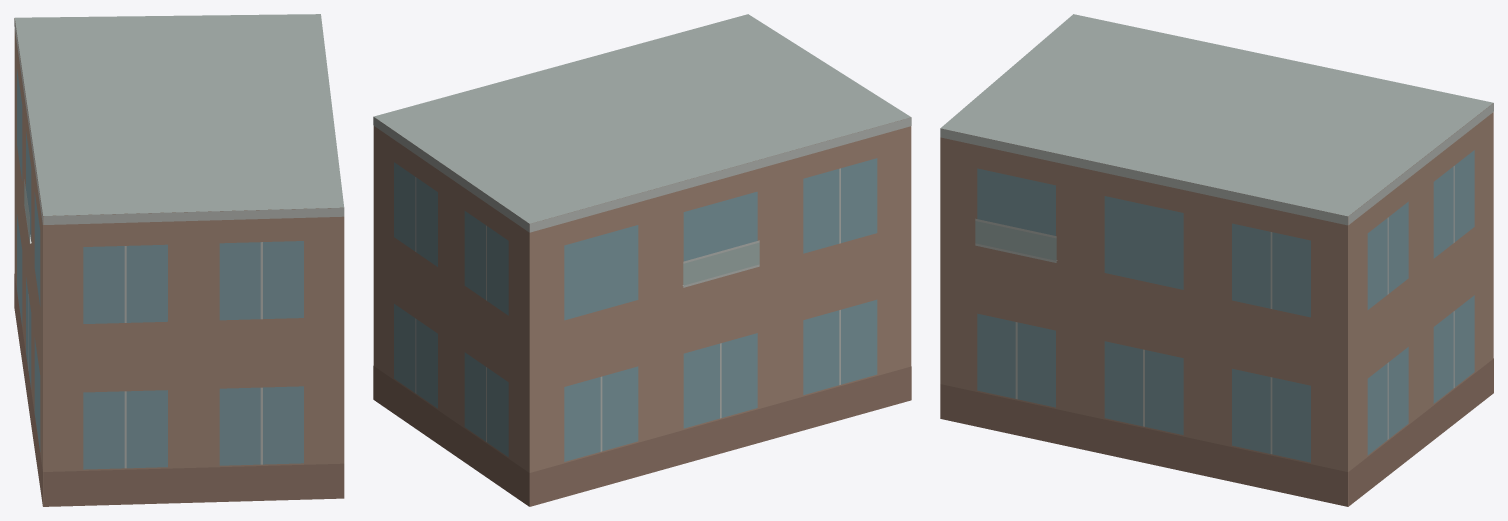
File: survey-upis-32634257.glb
3 views of the same model, side by side, from view 1: azimuth 30°, elevation 25°; view 2: azimuth 150°, elevation 25°; view 3: azimuth 270°, elevation 25° (orthographic). The views are drawn at different scales.
Visible parts, largest first — view 1: survey-upis-32634257.tmp; view 2: survey-upis-32634257.tmp; view 3: survey-upis-32634257.tmp.
Part boxes in pixels (x1,y1,x2,y2): survey-upis-32634257.tmp: (14,14,344,506); survey-upis-32634257.tmp: (373,14,911,506); survey-upis-32634257.tmp: (940,14,1493,506).
Bounding box in the file's own units: 11.67 × 7.8 × 13.48.
